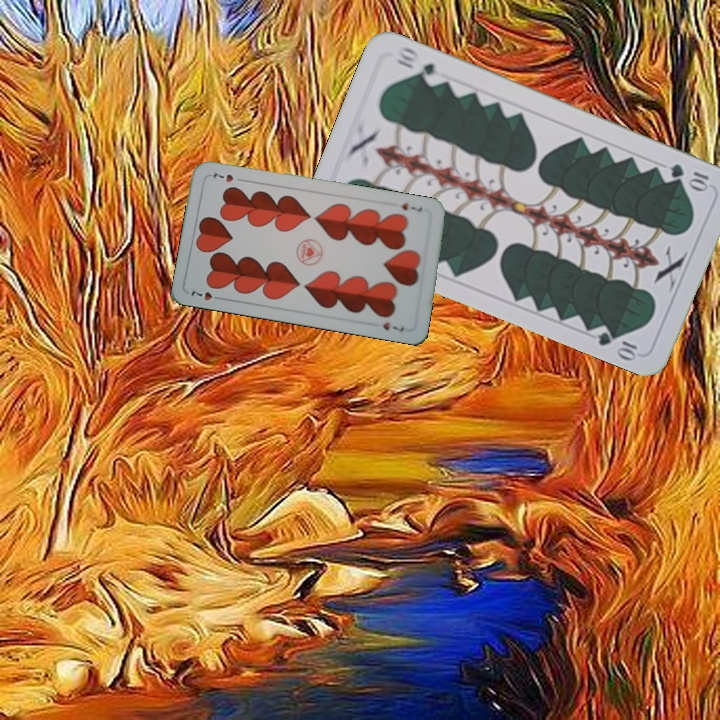G10: (666, 159, 711, 193)
H7: (186, 286, 226, 303), (398, 199, 425, 215)
